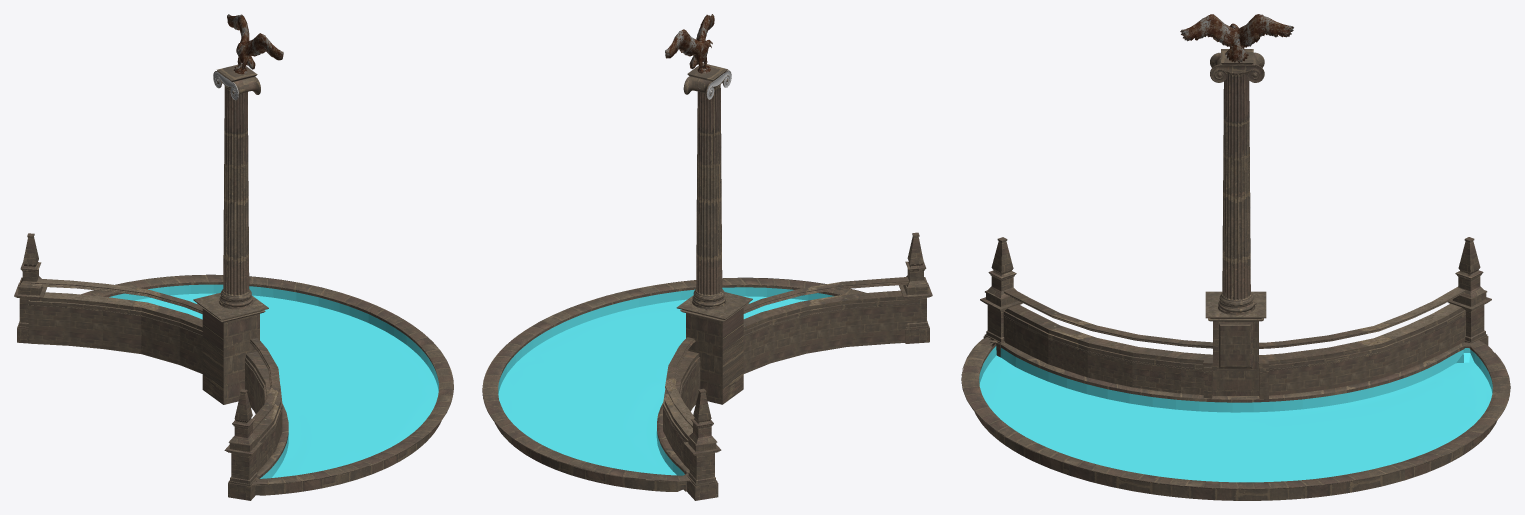
The model's file is FuenteAguila.fbx.
3 renders of one model, left to right at view 1: azimuth 30°, elevation 25°; view 2: azimuth 150°, elevation 25°; view 3: azimuth 270°, elevation 25°, orthographic. The views are drawn at different scales.
Parts seen in each view (by area): view 1: Fontain, Pared_Fuente, PilarAgain, Ahguilah, PilarTop; view 2: Fontain, Pared_Fuente, PilarAgain, Ahguilah, PilarTop; view 3: Fontain, Pared_Fuente, PilarAgain, Ahguilah, PilarTop.
Boxes of the visible parts, left/top/right/bottom form: Fontain: left=80, top=274, right=453, bottom=495; Pared_Fuente: left=14, top=233, right=282, bottom=500; PilarAgain: left=219, top=85, right=253, bottom=309; Ahguilah: left=227, top=14, right=283, bottom=74; PilarTop: left=213, top=63, right=260, bottom=100; Fontain: left=482, top=277, right=865, bottom=491; Pared_Fuente: left=662, top=232, right=932, bottom=500; PilarAgain: left=692, top=84, right=726, bottom=309; Ahguilah: left=665, top=14, right=714, bottom=73; PilarTop: left=683, top=63, right=731, bottom=99; Fontain: left=961, top=337, right=1510, bottom=500; Pared_Fuente: left=980, top=237, right=1491, bottom=398; PilarAgain: left=1218, top=73, right=1255, bottom=315; Ahguilah: left=1180, top=14, right=1293, bottom=62; PilarTop: left=1210, top=49, right=1264, bottom=82.
Bounding box in the file's own units: 1663 × 1916 × 2383.
